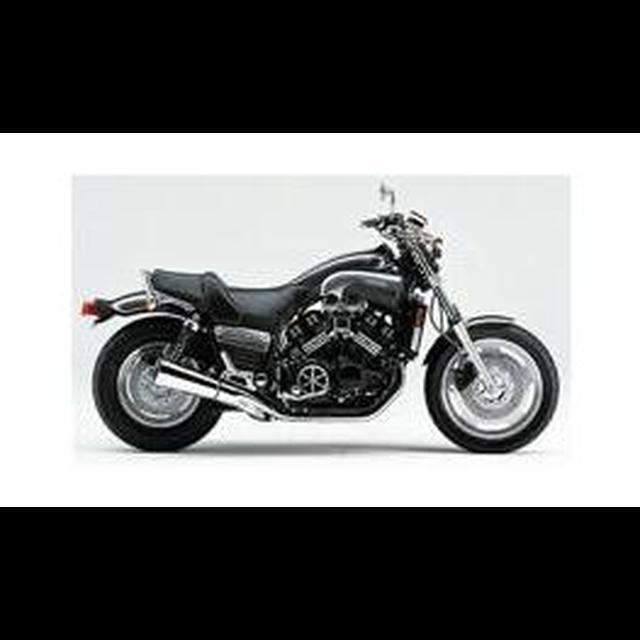motorcycle: (79, 179, 563, 457)
